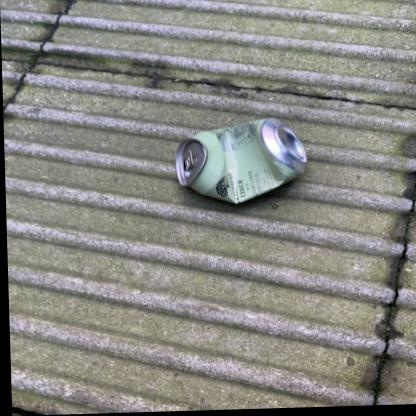trash: (176, 118, 306, 203)
